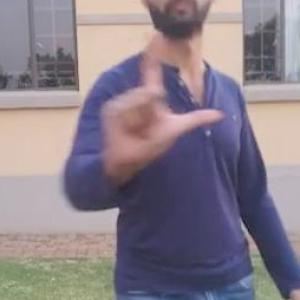land_hand: (97, 28, 223, 163)
